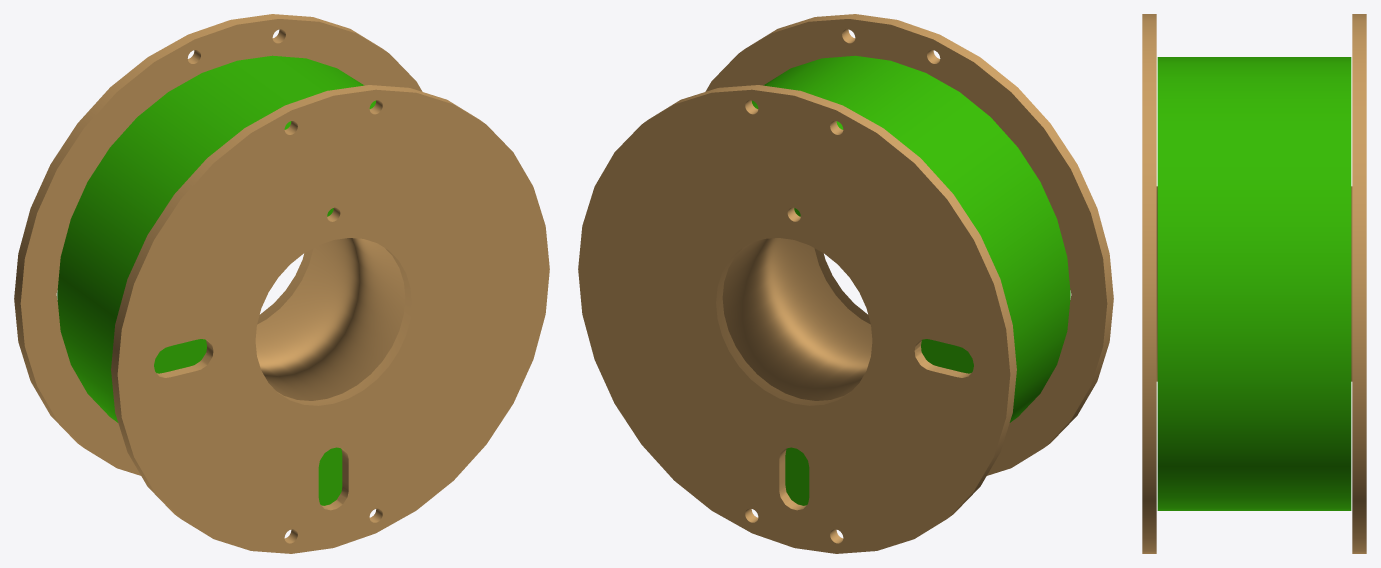
Rendered from PLAGreen.glb.
3 views of the same model, side by side, from view 1: azimuth 30°, elevation 25°; view 2: azimuth 150°, elevation 25°; view 3: azimuth 270°, elevation 25° (orthographic). The views are drawn at different scales.
Visible parts, largest first — view 1: PLA Green; view 2: PLA Green; view 3: PLA Green.
Part boxes in pixels (x1=…): PLA Green: x1=14, y1=14, x2=549, y2=553; PLA Green: x1=578, y1=14, x2=1113, y2=553; PLA Green: x1=1142, y1=14, x2=1366, y2=553.
Size of the model in its own units: 1.27 by 1.27 by 0.5262.
Materials: 3 (1 with a texture image).
